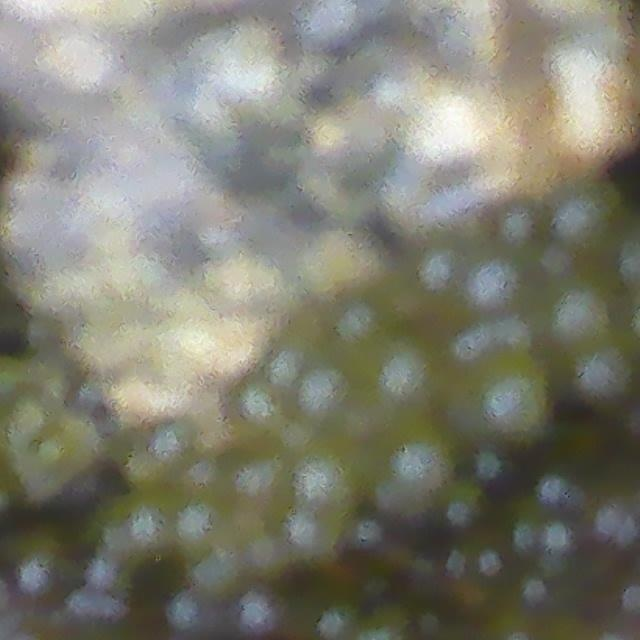SeaGrape: (372, 342, 444, 433), (477, 372, 549, 443), (386, 438, 451, 500), (551, 283, 609, 342), (297, 450, 346, 517), (293, 377, 353, 425)
